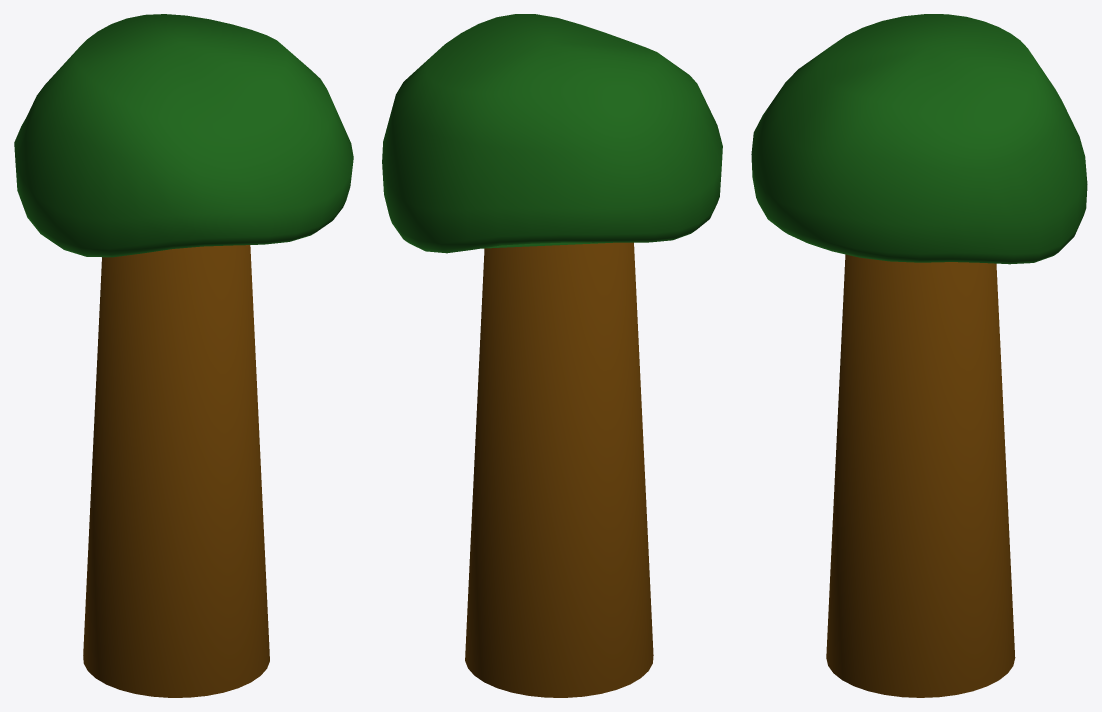
The model's file is Tree5.fbx.
3 views of the same model, side by side, from view 1: azimuth 30°, elevation 25°; view 2: azimuth 150°, elevation 25°; view 3: azimuth 270°, elevation 25° (orthographic).
Parts seen in each view (by area): view 1: Tree5, Cylinder.000; view 2: Tree5, Cylinder.000; view 3: Tree5, Cylinder.000.
Boxes of the visible parts, left/top/right/bottom form: Tree5: left=83, top=245, right=269, bottom=697; Cylinder.000: left=14, top=14, right=353, bottom=257; Tree5: left=465, top=242, right=653, bottom=697; Cylinder.000: left=382, top=14, right=722, bottom=253; Tree5: left=826, top=254, right=1015, bottom=697; Cylinder.000: left=751, top=14, right=1087, bottom=264.
Size of the model in its own units: 635 by 1262 by 624.
